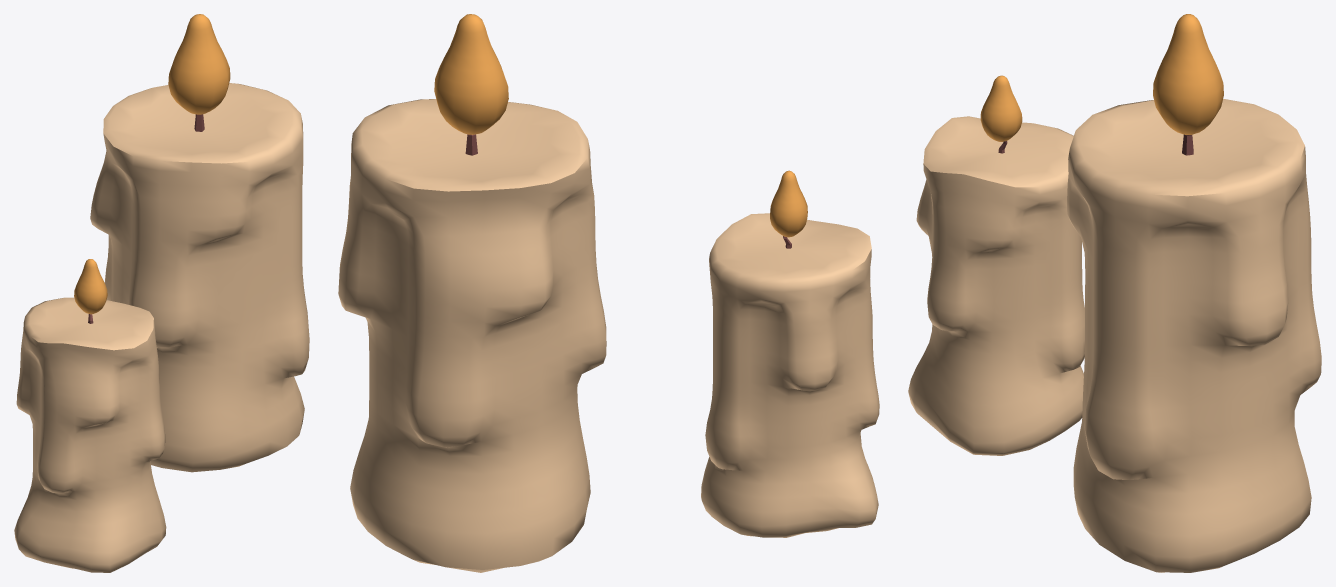
The model's file is velav2.fbx.
3 renders of one model, left to right at view 1: azimuth 30°, elevation 25°; view 2: azimuth 150°, elevation 25°; view 3: azimuth 270°, elevation 25°, orthographic. The views are drawn at different scales.
Parts seen in each view (by area): view 1: Cylinder.010; view 2: Cylinder.010; view 3: Cylinder.010.
Boxes of the visible parts, x1,y1,x2,y2 form: Cylinder.010: [14, 14, 309, 572]; Cylinder.010: [338, 14, 879, 572]; Cylinder.010: [908, 14, 1321, 572].
Bounding box in the file's own units: 0.3672 × 0.4283 × 0.31.
